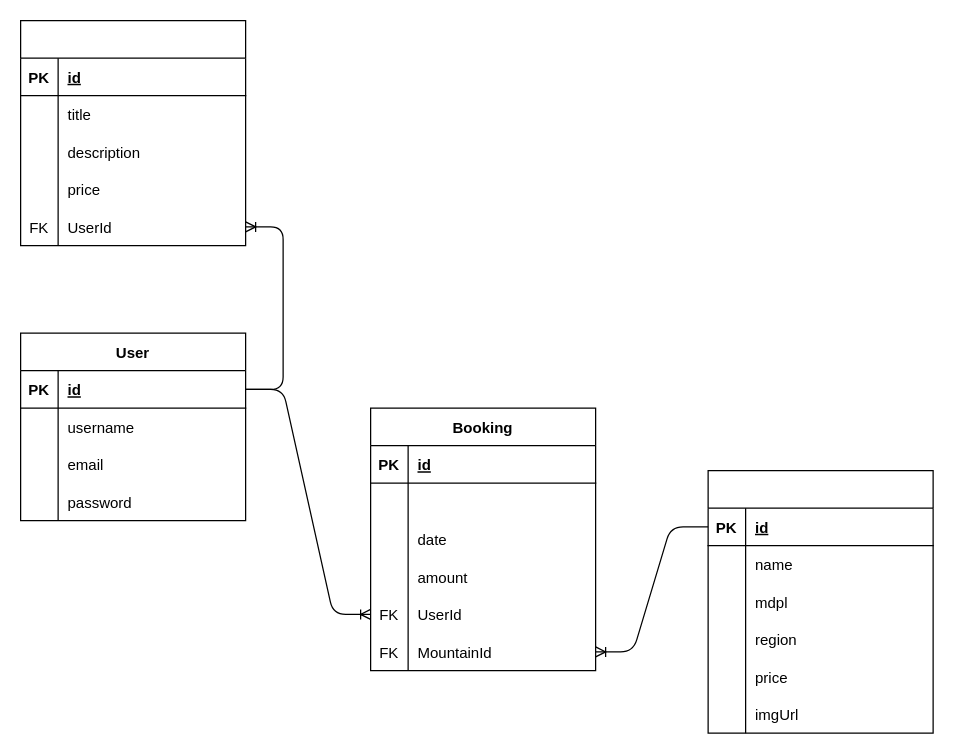
Image size: 954x754. Some labels were removed from this diagram. The shapes that lost their labels are listed below. From the top down, each one's box as (x1, y1, x2, y2) in pixels, then its label:
(19, 19, 246, 246): Event
(707, 469, 933, 733): Mountain
